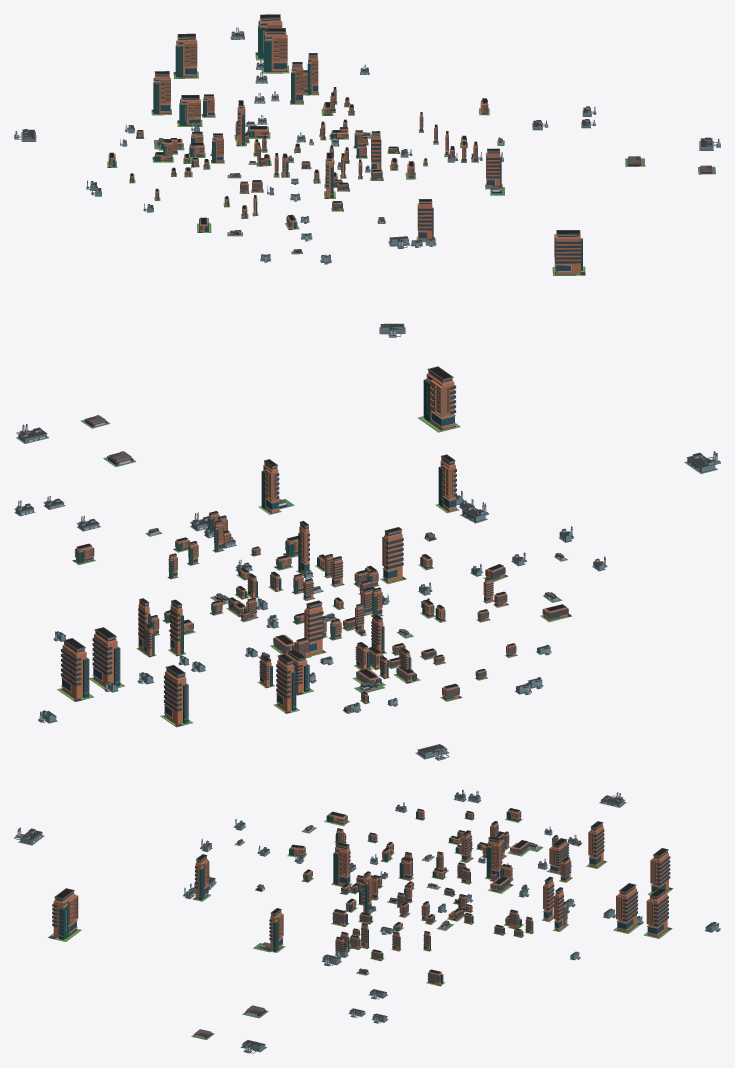
Rendered from nyc2.glb.
3 views of the same model, one above another, from view 1: azimuth 30°, elevation 25°; view 2: azimuth 150°, elevation 25°; view 3: azimuth 270°, elevation 25° (orthographic). The views are drawn at different scales.
Parts seen in each view (by area): view 1: nyc; view 2: nyc; view 3: nyc.
Boxes of the visible parts, box(x1,y1,x2,y2) form: nyc: box(14, 14, 720, 337); nyc: box(14, 366, 720, 760); nyc: box(14, 789, 720, 1053).
Bounding box in the file's own units: 1662 × 120 × 1926.
6 materials, 6 textured.
